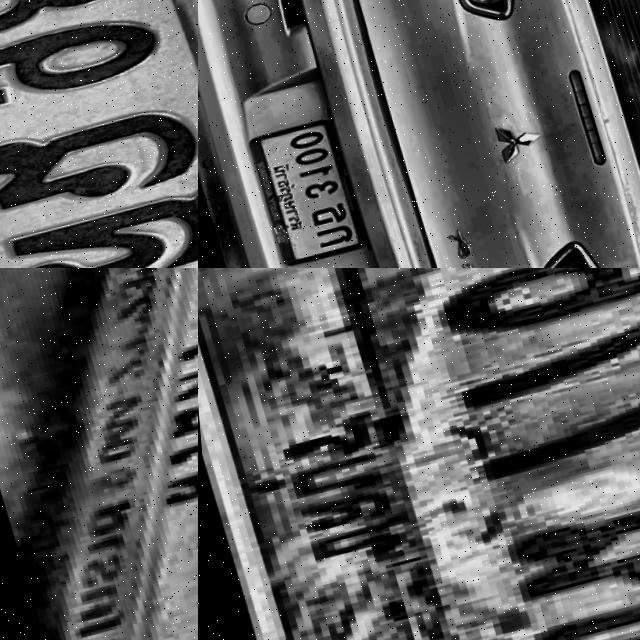license-plate: (198, 268, 640, 640), (0, 268, 198, 640), (0, 0, 198, 268), (240, 114, 367, 268)
